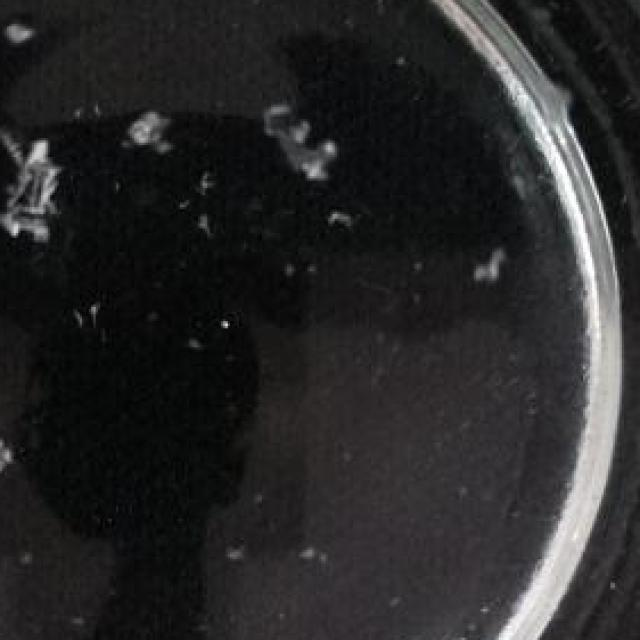Microplastic: (260, 95, 353, 195), (2, 126, 64, 262), (111, 102, 170, 157), (2, 2, 46, 55), (474, 233, 510, 290), (0, 418, 30, 481), (296, 540, 333, 581), (319, 205, 360, 238), (226, 538, 255, 566)
